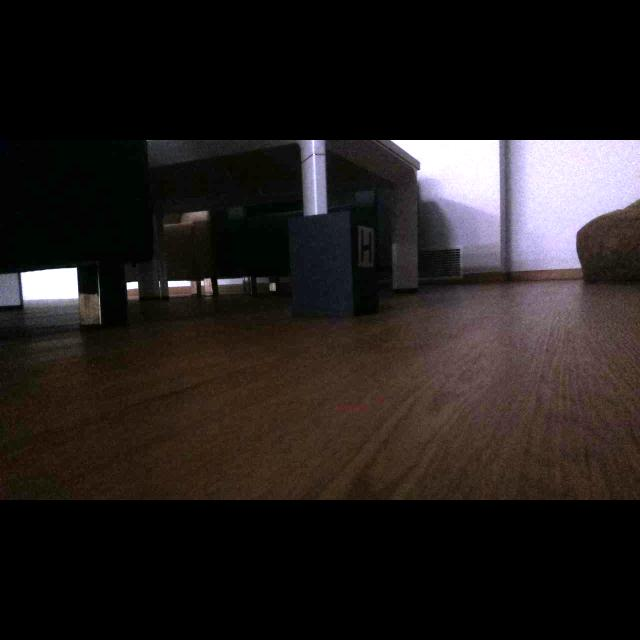H: (361, 230, 372, 262)
